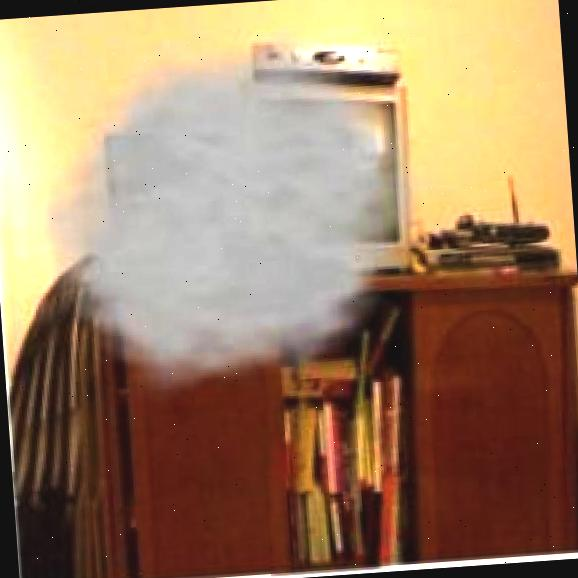smoke: (11, 22, 456, 415)
